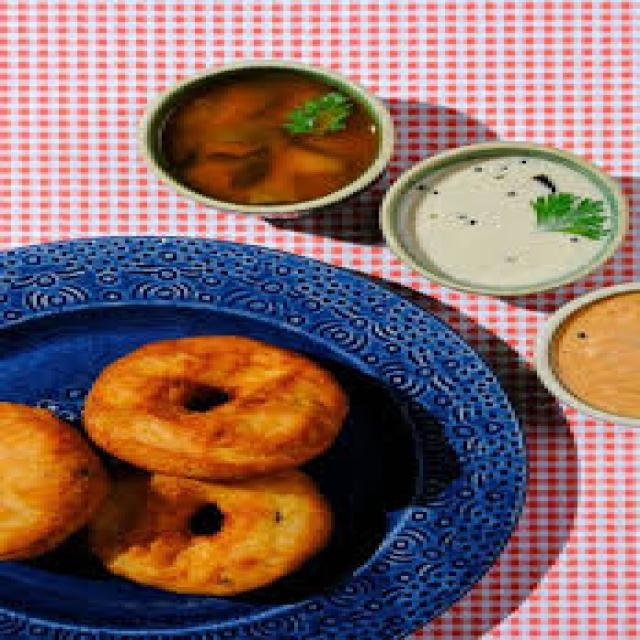MEDU VADA: (83, 337, 343, 484), (89, 469, 326, 596), (0, 401, 110, 561)
